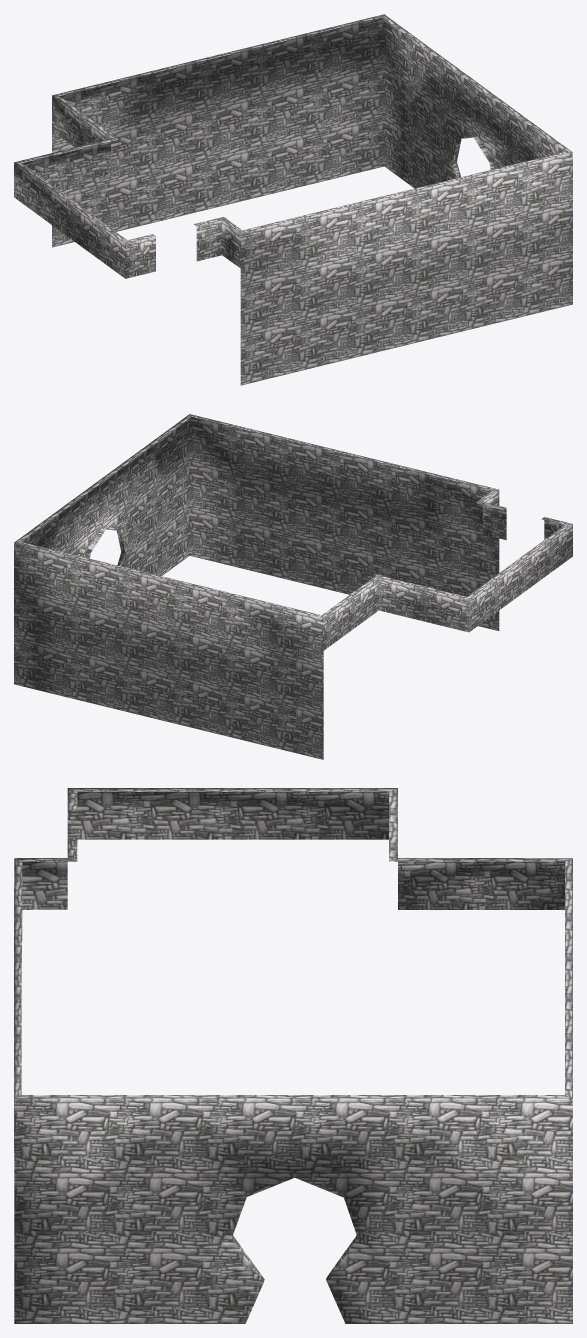
File: HTOWN01_MILLBASEEXT.fbx
3 views of the same model, one above another, from view 1: azimuth 30°, elevation 25°; view 2: azimuth 150°, elevation 25°; view 3: azimuth 270°, elevation 25° (orthographic). The views are drawn at different scales.
Parts seen in each view (by area): view 1: HTOWN01_MILLBASEEXT; view 2: HTOWN01_MILLBASEEXT; view 3: HTOWN01_MILLBASEEXT.
Boxes of the visible parts, x1,y1,x2,y2 form: HTOWN01_MILLBASEEXT: (14, 14, 572, 385); HTOWN01_MILLBASEEXT: (14, 414, 572, 759); HTOWN01_MILLBASEEXT: (14, 788, 572, 1323).
Bounding box in the file's own units: 173302 × 58653 × 131846.
1 material, 1 textured.
